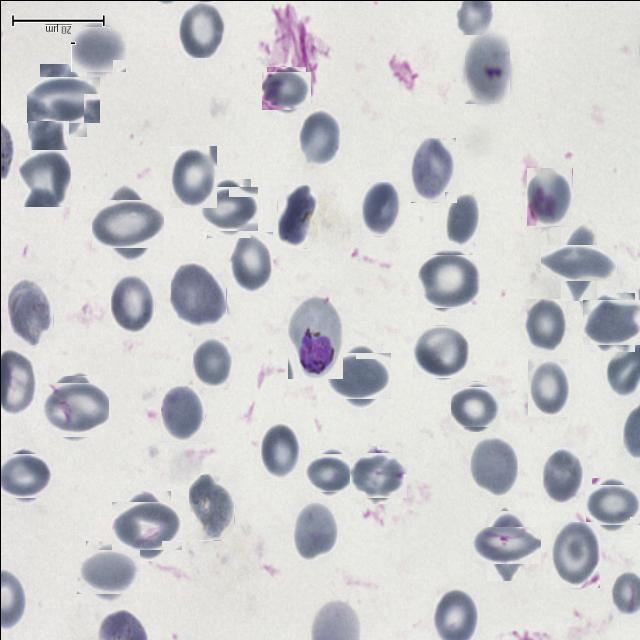red blood cell: (96, 192, 158, 253), (44, 378, 106, 439), (170, 262, 226, 328), (32, 70, 92, 130), (419, 250, 478, 310), (116, 496, 176, 554), (550, 521, 599, 587), (414, 322, 471, 378), (550, 233, 606, 290), (7, 278, 53, 346), (464, 34, 509, 103), (466, 434, 516, 496), (188, 474, 234, 540), (410, 137, 456, 202), (18, 149, 70, 206), (332, 348, 386, 402), (80, 544, 134, 598), (478, 518, 532, 572), (169, 145, 216, 207), (291, 499, 338, 560), (110, 273, 155, 334), (178, 1, 226, 58), (228, 231, 272, 293), (526, 167, 572, 226), (352, 448, 404, 500), (585, 296, 637, 348), (202, 182, 254, 233), (160, 384, 205, 441), (0, 450, 50, 501), (72, 23, 122, 74), (277, 184, 317, 247), (540, 446, 584, 502), (297, 108, 340, 165), (527, 358, 569, 416), (260, 422, 301, 480), (588, 480, 636, 529), (522, 298, 564, 352), (361, 181, 400, 236), (306, 449, 352, 494), (192, 336, 232, 387), (452, 384, 498, 428), (27, 120, 68, 169), (444, 191, 480, 245), (264, 68, 308, 112)
trophozoite: (287, 295, 342, 378)
